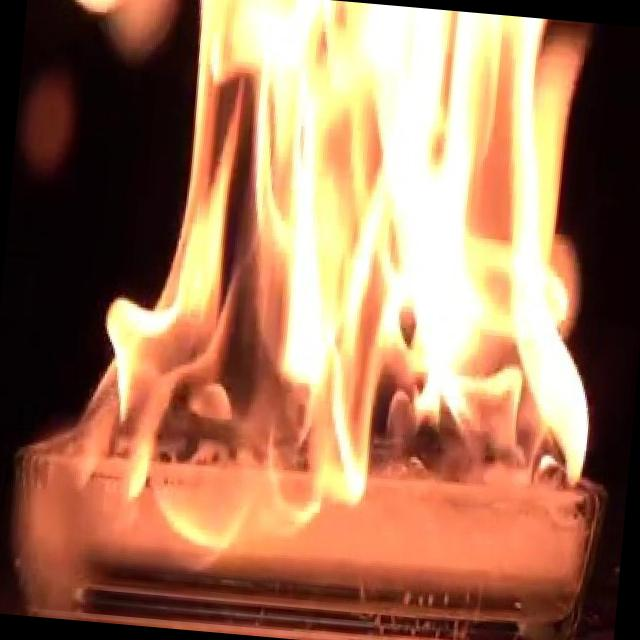Fire: (54, 0, 633, 588)
